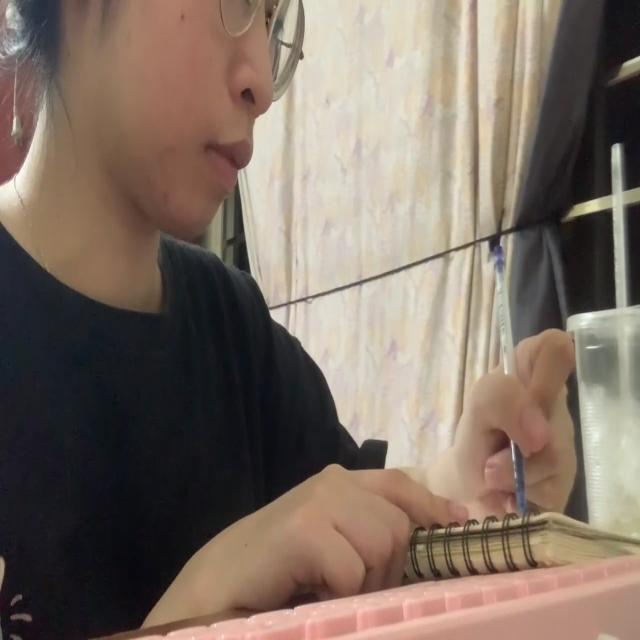book: (403, 507, 636, 577)
student: (1, 0, 583, 640)
